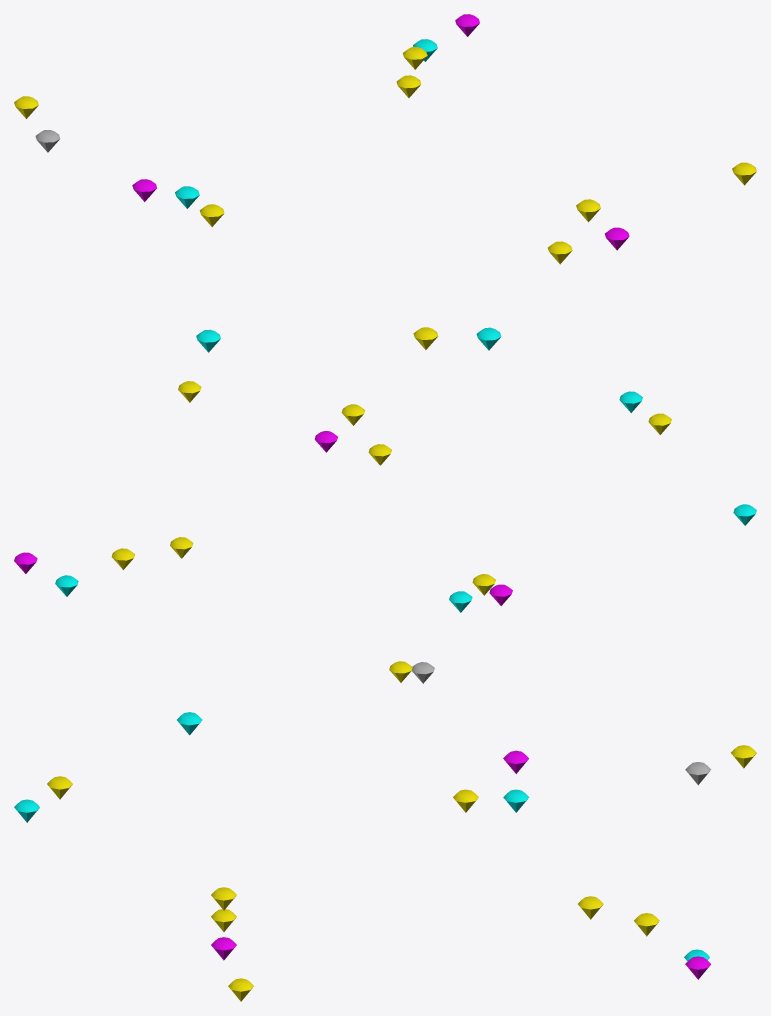
Rendered from Pickups.fbx.
The picture shows the model from 3 angles, top to bottom: view 1: azimuth 30°, elevation 25°; view 2: azimuth 150°, elevation 25°; view 3: azimuth 270°, elevation 25°; orthographic projection. The views are drawn at different scales.
Bounding box in the file's own units: 19.52 × 1.76 × 21.19.
